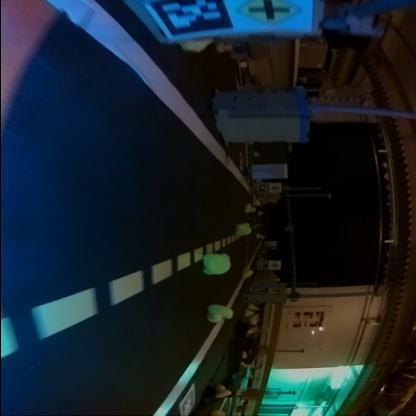Duckie: (206, 252, 230, 275), (208, 304, 232, 322), (180, 38, 213, 50), (235, 223, 252, 234), (214, 384, 231, 395), (244, 203, 256, 212)
Intersection sign: (238, 2, 302, 26)
QR code: (150, 3, 233, 34), (178, 386, 196, 413)
